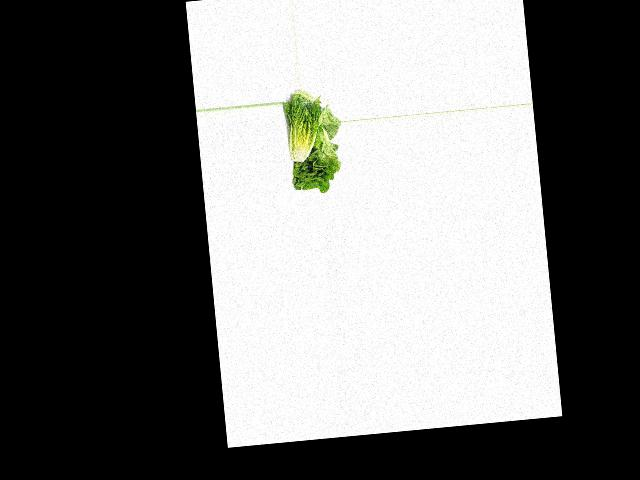lettuce: (284, 128, 343, 194)
